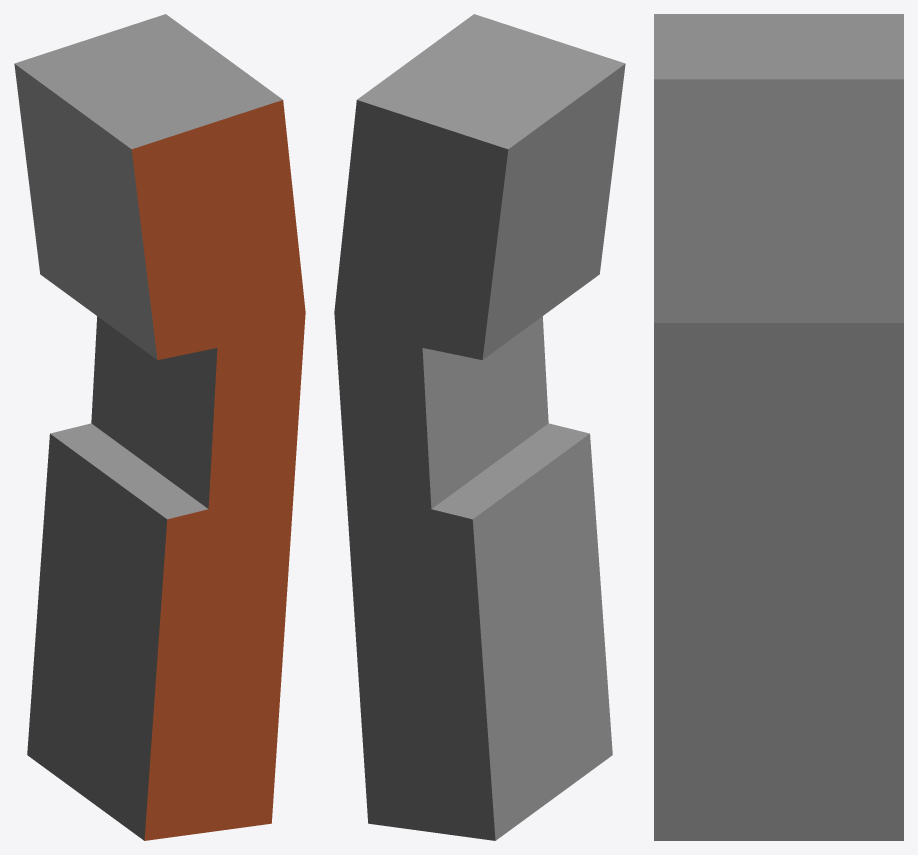
The model's file is construction_5789_assumed_A_Casa_h6m.obj.
3 renders of one model, left to right at view 1: azimuth 30°, elevation 25°; view 2: azimuth 150°, elevation 25°; view 3: azimuth 270°, elevation 25°, orthographic. The views are drawn at different scales.
Parts seen in each view (by area): view 1: construction_5789_assumed_A_Casa; view 2: construction_5789_assumed_A_Casa; view 3: construction_5789_assumed_A_Casa.
Boxes of the visible parts, <box> form: construction_5789_assumed_A_Casa: <box>14,14,305,840</box>; construction_5789_assumed_A_Casa: <box>334,14,625,840</box>; construction_5789_assumed_A_Casa: <box>654,14,903,840</box>.
Size of the model in its own units: 5.14 by 20.35 by 6.
